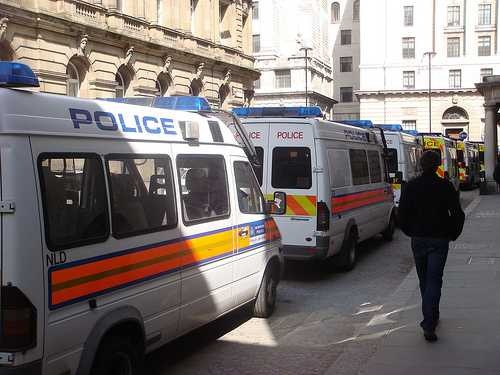Police Van: (0, 58, 283, 375), (229, 91, 403, 271), (369, 115, 425, 202), (411, 128, 461, 194), (446, 136, 481, 199)
